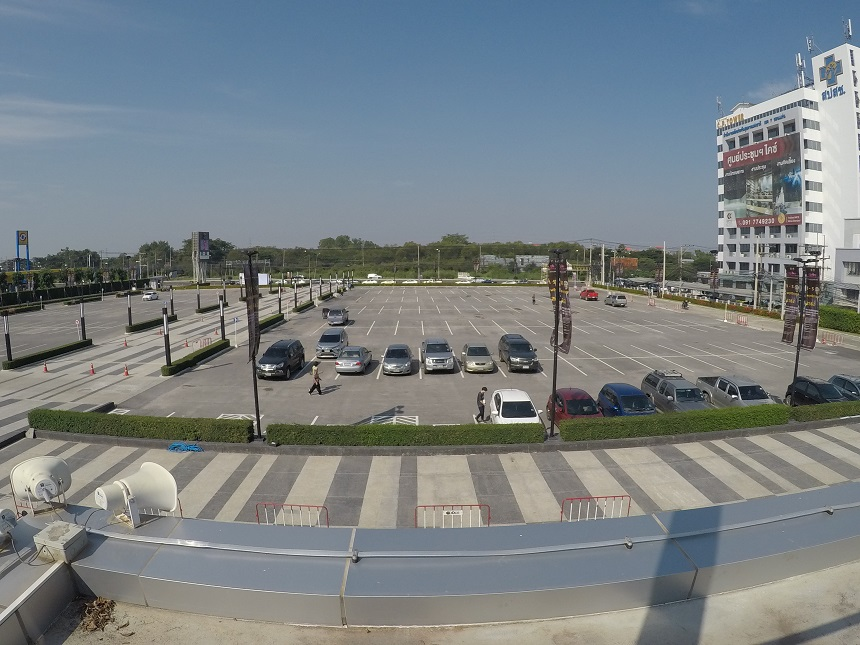busy: (711, 376, 760, 403), (656, 379, 696, 408), (605, 386, 648, 412), (260, 350, 296, 379), (551, 394, 596, 416), (461, 350, 495, 376), (493, 399, 533, 421), (377, 353, 413, 375), (793, 380, 827, 402), (504, 354, 540, 374), (338, 351, 368, 373), (833, 376, 858, 399), (421, 353, 454, 370)
